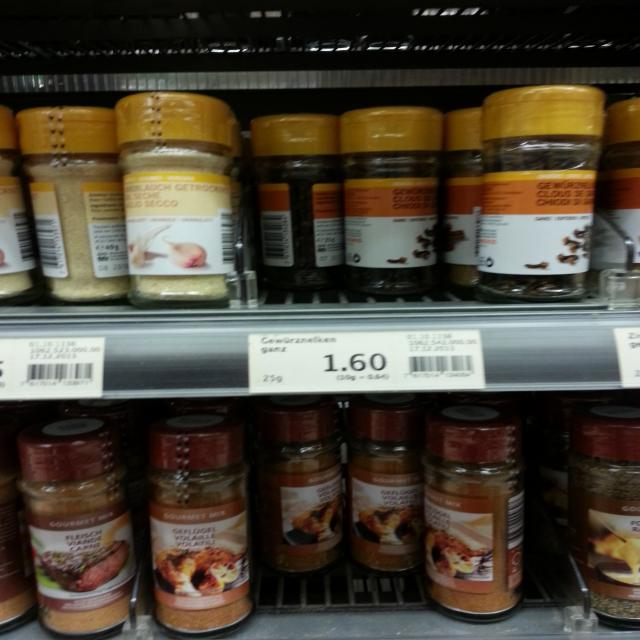Spices: (18, 412, 140, 640), (478, 79, 604, 299), (110, 92, 235, 308), (150, 412, 252, 640), (15, 105, 127, 306), (428, 400, 522, 628), (337, 106, 442, 292), (248, 113, 340, 293), (569, 400, 640, 625), (349, 390, 427, 572), (266, 396, 344, 576)
